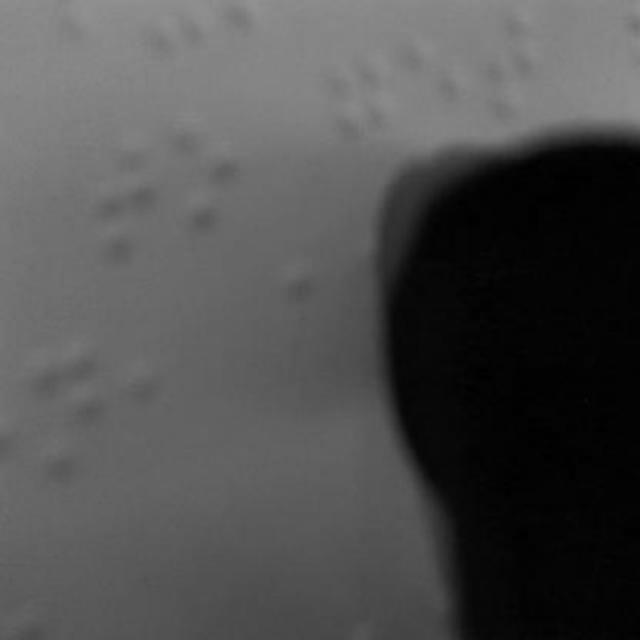braiile: (27, 321, 103, 477), (322, 47, 402, 193), (168, 106, 252, 240), (94, 137, 166, 270)
